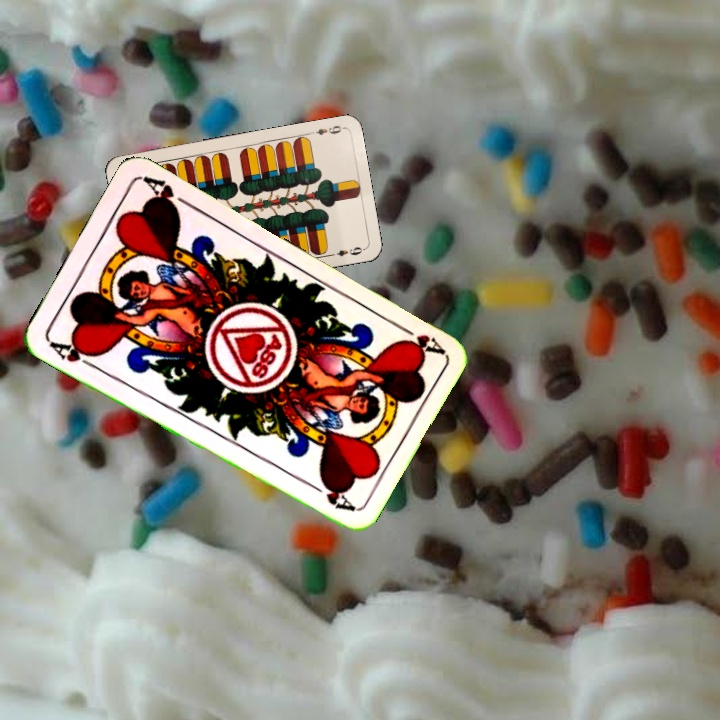E9: (305, 121, 346, 138)
HA: (390, 319, 445, 359), (45, 336, 102, 371)
